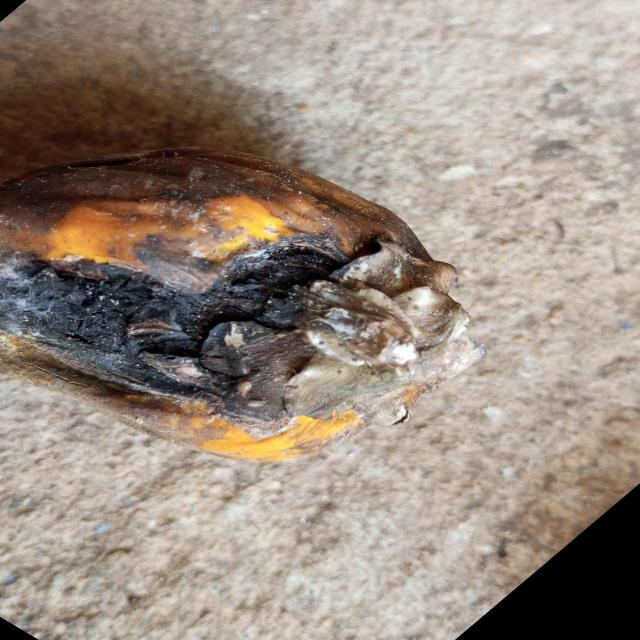damaged: (0, 149, 484, 461)
